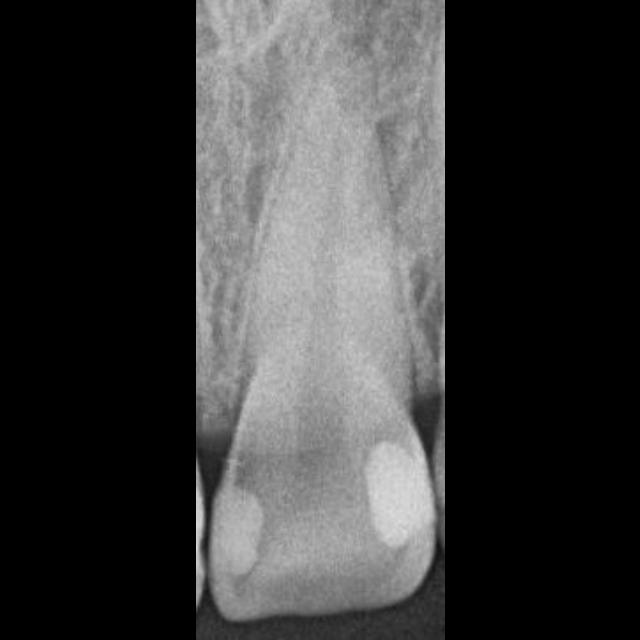tooth: (214, 131, 430, 615)
